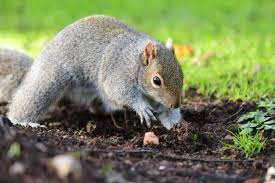squirrel: (1, 19, 185, 130)
